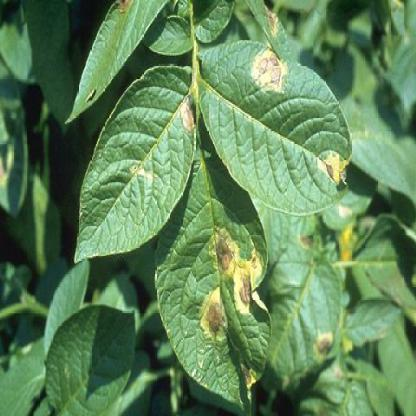Potato leaf late blight: (153, 155, 280, 415), (192, 39, 361, 225), (71, 51, 199, 274)
